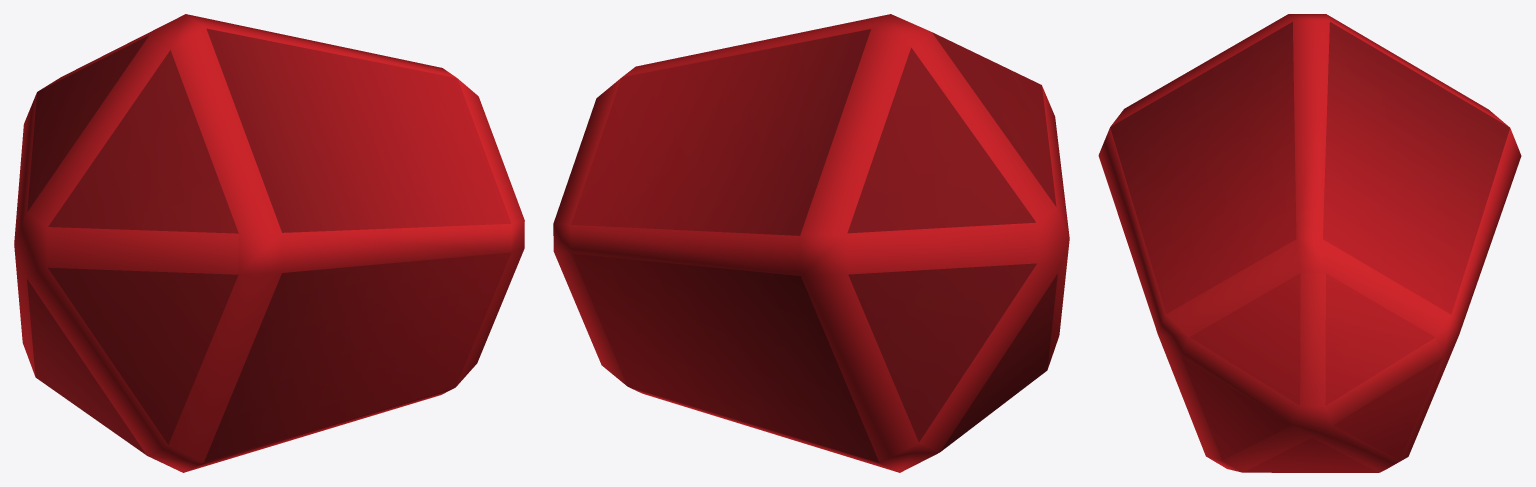
File: christal_ruby_8.fbx
3 renders of one model, left to right at view 1: azimuth 30°, elevation 25°; view 2: azimuth 150°, elevation 25°; view 3: azimuth 270°, elevation 25°, orthographic. The views are drawn at different scales.
Parts seen in each view (by area): view 1: christal_ruby_8; view 2: christal_ruby_8; view 3: christal_ruby_8.
Part boxes in pixels (x1,y1,x2,y2): christal_ruby_8: (14, 14, 524, 472); christal_ruby_8: (553, 14, 1069, 472); christal_ruby_8: (1098, 14, 1521, 472).
Bounding box in the file's own units: 34.31 × 26.15 × 27.94.
Materials: 1 (1 with a texture image).
